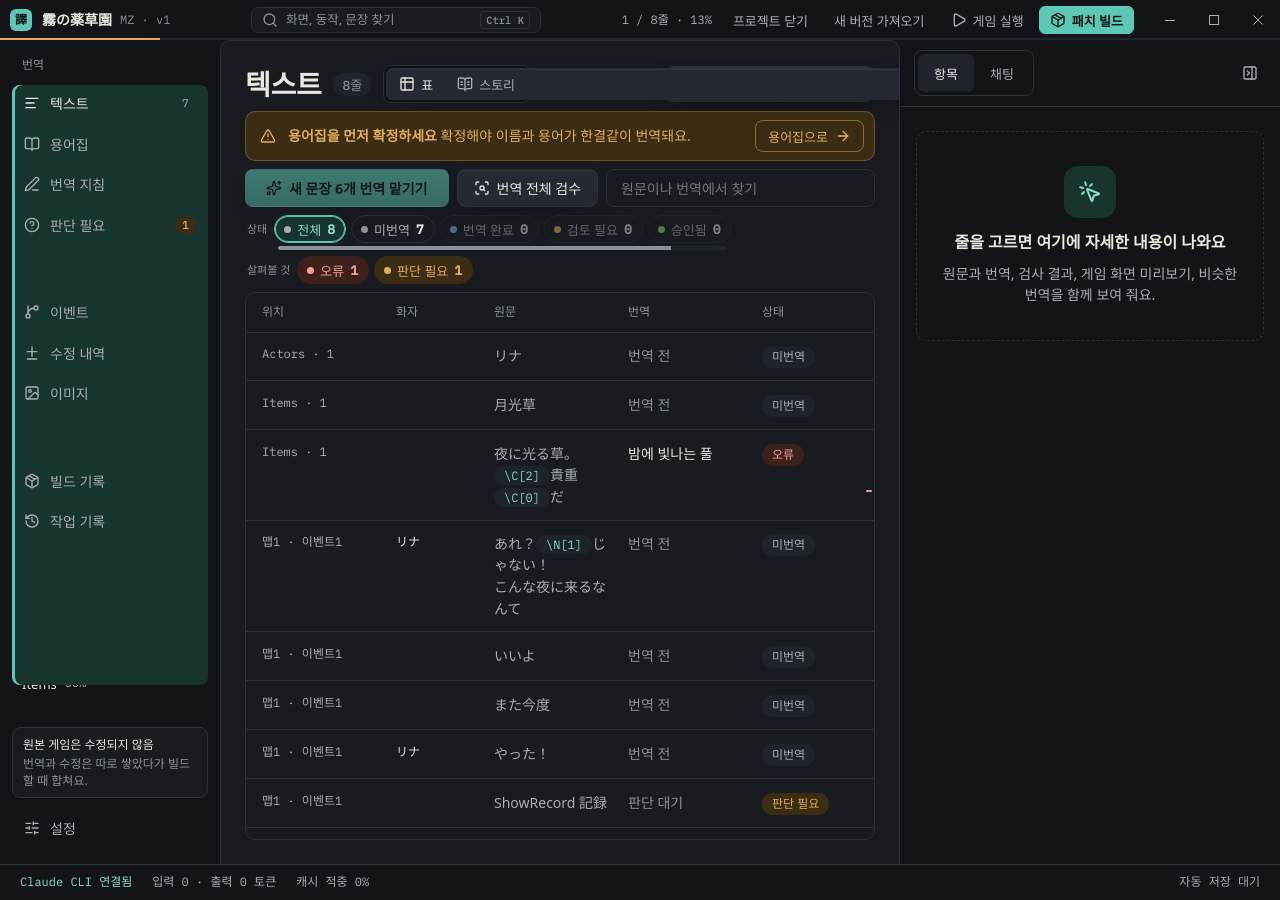
it: 다른 게임 같으면 이유가 보이고 체크해야 가져오기가 켜진다
Check: the text "霧の薬草園" is shown, box [42,9,112,31]
Click the button "새 버전 가져오기" at (879, 20), box [823,6,936,34]
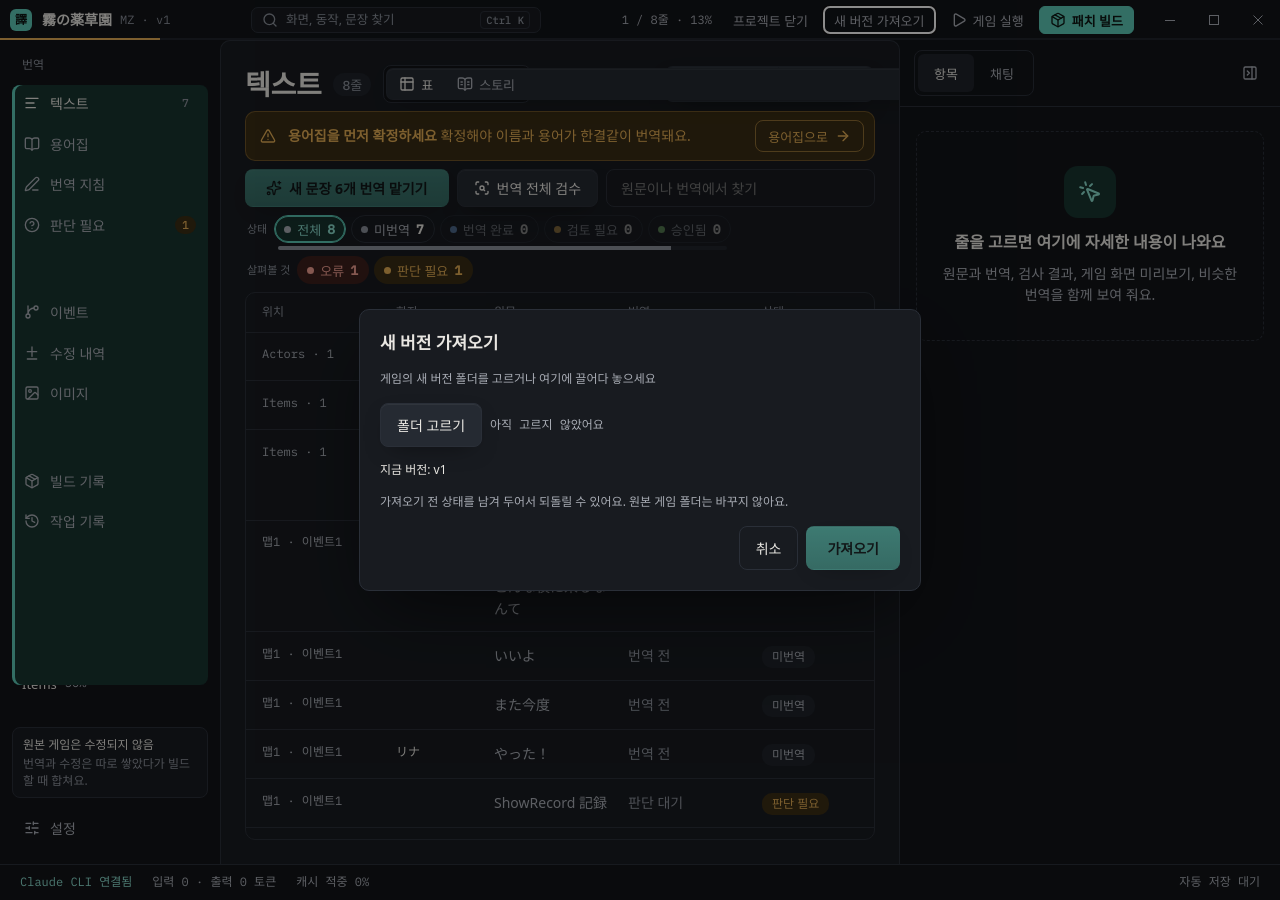
Check: the text "게임의 새 버전 폴더를 고르거나 여기에 끌어다 놓으세요" is shown, box [380,370,656,387]
Click the button "폴더 고르기" at (431, 425), box [380,403,482,447]
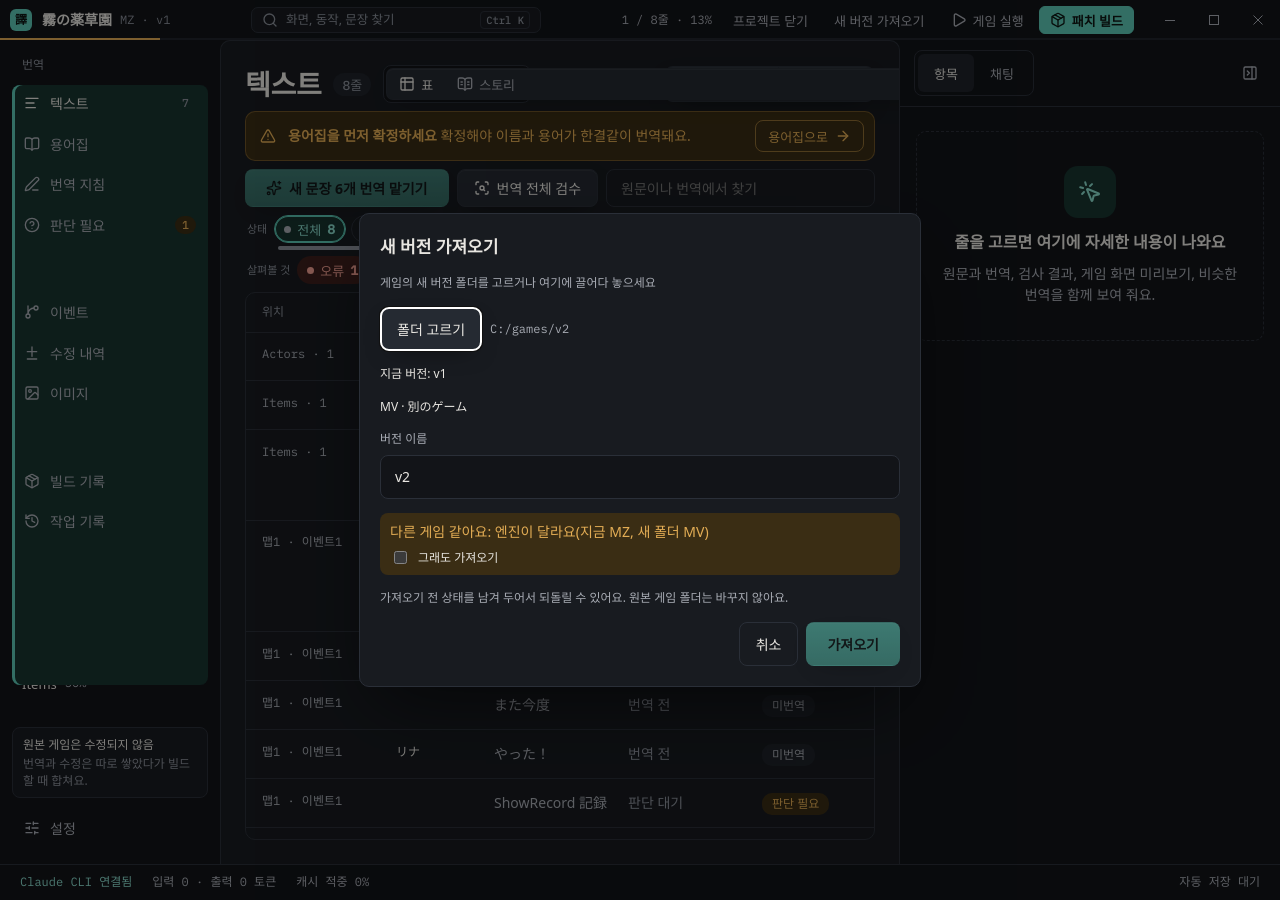
Check: the button "가져오기" is disabled, box [806,622,900,666]
Check: the text "다른 게임 같아요: 엔진이 달라요(지금 MZ, 새 폴더 MV)" is shown, box [390,522,709,541]
Click the checkbox labelled "그래도 가져오기" at (400, 558), box [394,551,407,564]
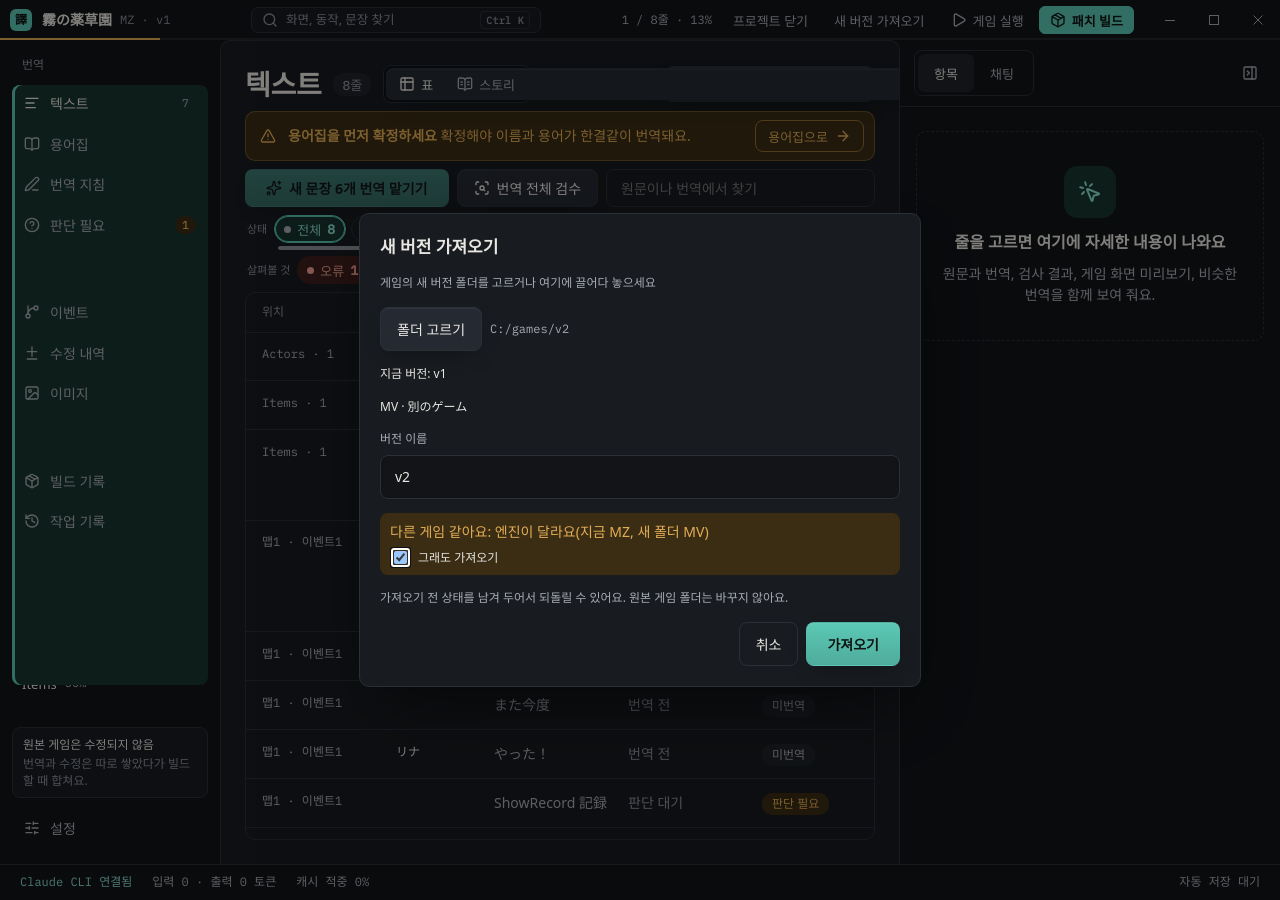
Check: the button "가져오기" is enabled, box [806,622,900,666]
